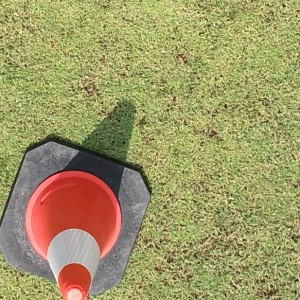traffic cone: (1, 140, 150, 300)
